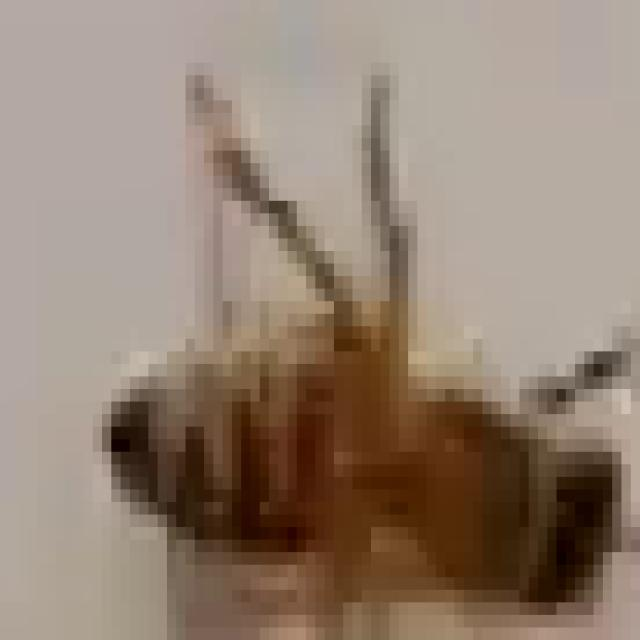honeybee: (97, 155, 595, 534)
